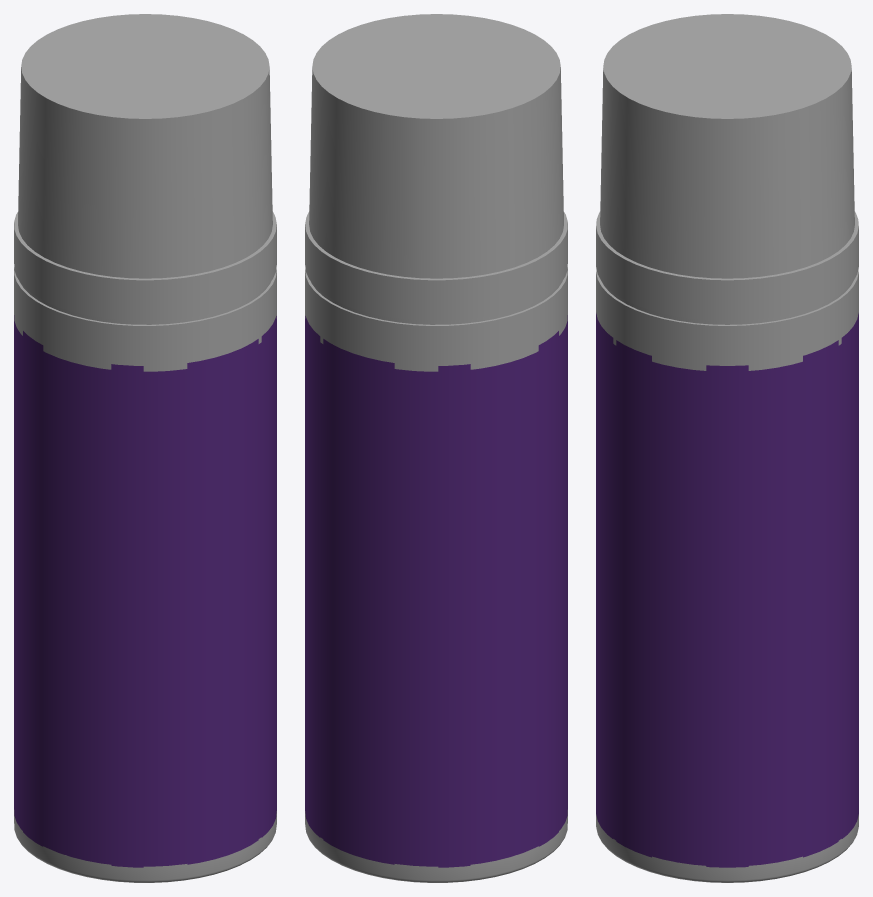
3 renders of one model, left to right at view 1: azimuth 30°, elevation 25°; view 2: azimuth 150°, elevation 25°; view 3: azimuth 270°, elevation 25°, orthographic.
Parts seen in each view (by area): view 1: body, cap, collar, bottom_rim; view 2: body, cap, collar, bottom_rim; view 3: body, cap, collar, bottom_rim.
Boxes of the visible parts, <box> form: body: <box>14,315,276,867</box>; cap: <box>18,14,272,278</box>; collar: <box>14,211,276,371</box>; bottom_rim: <box>14,810,276,882</box>; body: <box>305,315,567,867</box>; cap: <box>309,14,563,278</box>; collar: <box>305,211,567,371</box>; bottom_rim: <box>305,810,567,882</box>; body: <box>596,313,858,867</box>; cap: <box>600,14,854,278</box>; collar: <box>596,211,858,370</box>; bottom_rim: <box>596,814,858,882</box>.
Size of the model in its own units: 0.0468 by 0.15 by 0.0469.
